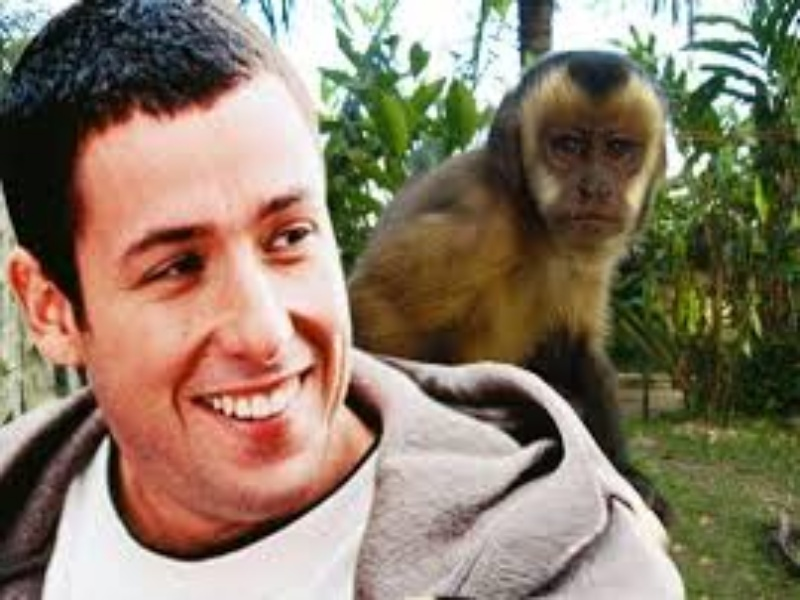monkey: (371, 41, 707, 357)
